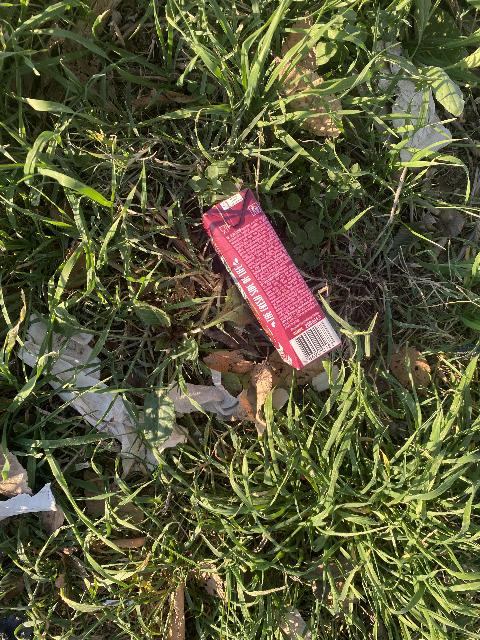Kagit: (195, 194, 348, 371)
